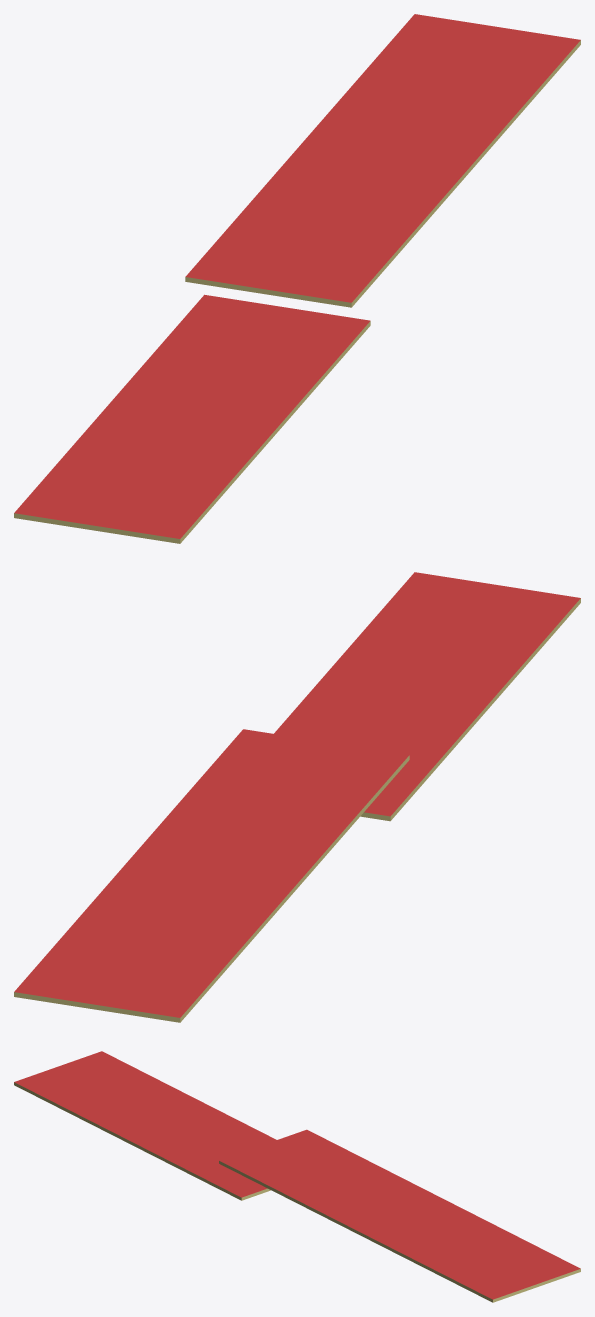
3 views of the same model, one above another, from view 1: azimuth 30°, elevation 25°; view 2: azimuth 210°, elevation 25°; view 3: azimuth 270°, elevation 25° (orthographic). The views are drawn at different scales.
Size of the model in its own units: 18.63 by 16.28 by 0.911.
